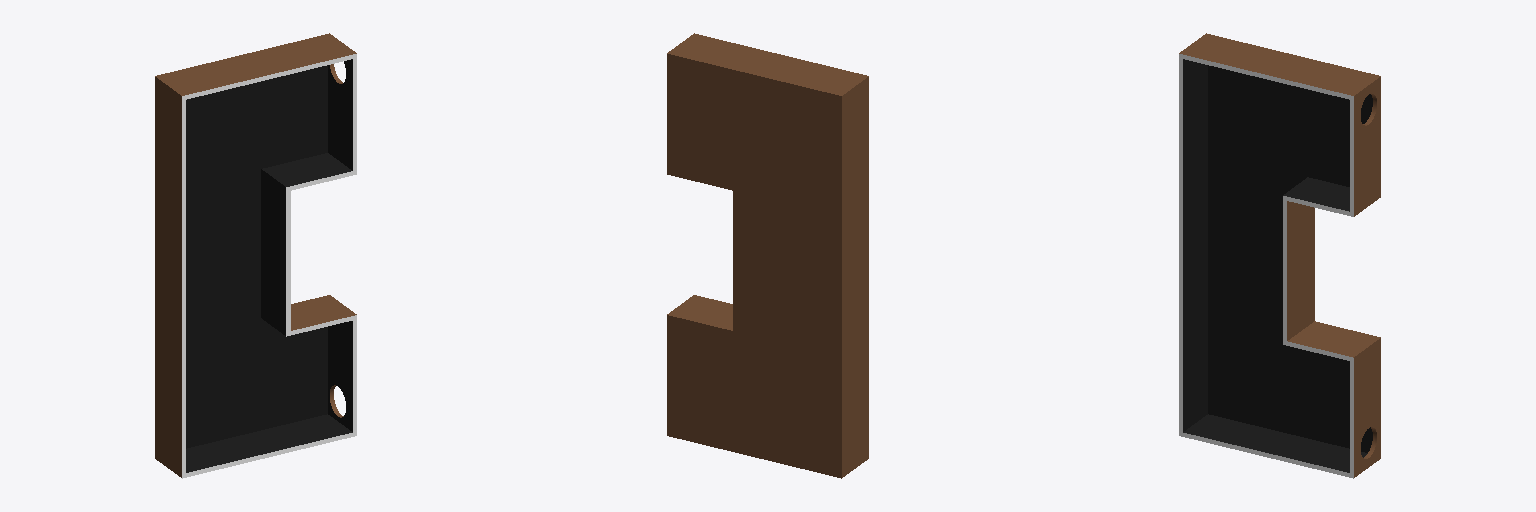
File: table_fan_hole.obj
3 views of the same model, side by side, from view 1: azimuth 30°, elevation 25°; view 2: azimuth 150°, elevation 25°; view 3: azimuth 330°, elevation 25° (orthographic).
Parts seen in each view (by area): view 1: Object.005; view 2: Object.005; view 3: Object.005.
Boxes of the visible parts, x1=… form: Object.005: x1=155, y1=33, x2=356, y2=478; Object.005: x1=667, y1=33, x2=868, y2=478; Object.005: x1=1179, y1=33, x2=1380, y2=478.
Bounding box in the file's own units: 73.6 × 154 × 20.